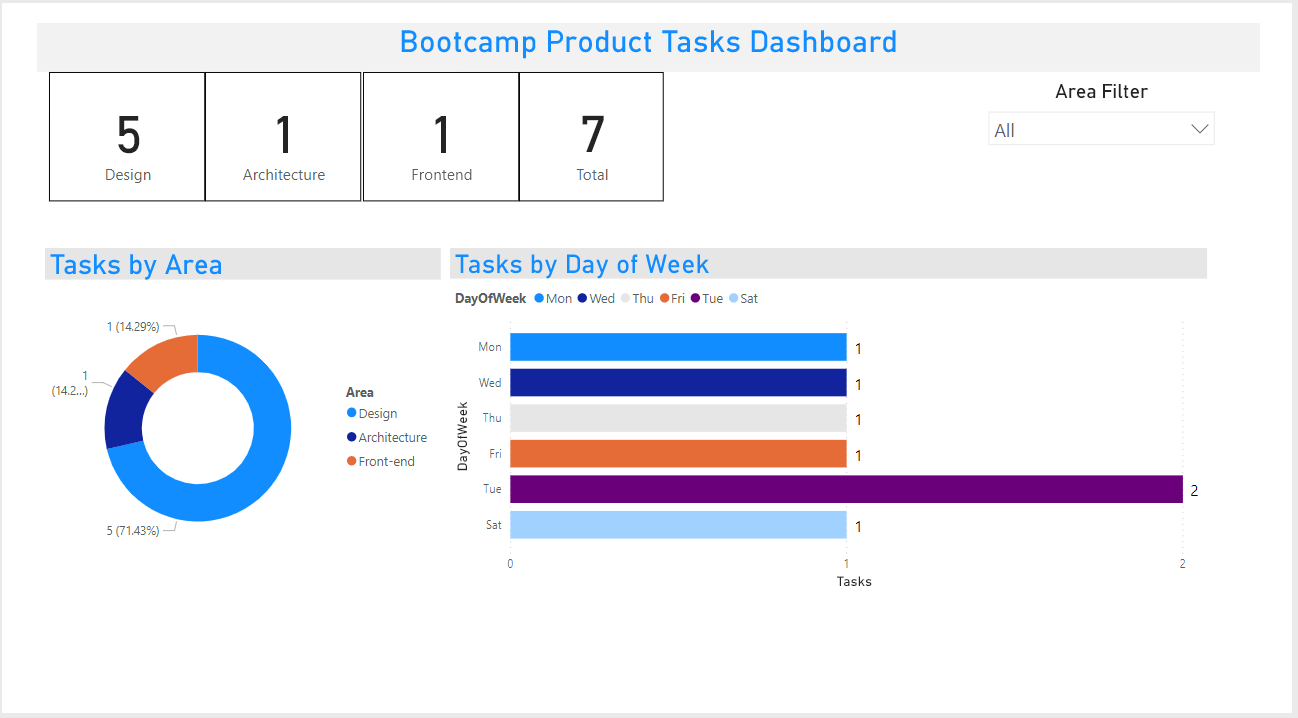

Layout of this report page (visuals, bound fields, positions):
{"tool":"powerbi","page":{"name":"Web","canvas":[1280,720],"ordinal":0},"visuals":[{"type":"donutChart","title":"Tasks by Area","fields":{"Category":["Test.Area"],"Y":["CountNonNull(Test.ID)"]},"box":[11.1,234.9,412.9,342.8],"z":0},{"type":"barChart","title":"Tasks by Day of Week","fields":{"Category":["Test.DayOfWeek"],"Y":["CountNonNull(Test.ID)"],"Series":["Test.DayOfWeek"]},"box":[434.2,234.4,790.3,360.6],"z":1000},{"type":"textbox","title":"Bootcamp Product Tasks Dashboard","box":[3.3,0,1276.7,51.2],"z":2000},{"type":"card","fields":{"Values":["Test.Design Tasks"]},"box":[15.6,51.2,162.5,134.7],"z":3000},{"type":"card","fields":{"Values":["Test.Architecture"]},"box":[178.1,51.2,162.5,134.7],"z":4000},{"type":"slicer","title":"Area Filter","fields":{"Values":["Test.Area"]},"box":[986.2,59,256,126.9],"z":5000},{"type":"card","fields":{"Values":["Test.Frontend"]},"box":[342.8,51.2,162.5,134.7],"z":6000},{"type":"card","fields":{"Values":["CountNonNull(Test.ID)"]},"box":[505.7,51.3,150.7,135.1],"z":7000}]}

Visuals, with their boxes in screenshot pixels (x1, y1, x2, y2), scaled from the page's 1280x720 canvas onto the 1298x718 screenshot:
"Tasks by Area" donutChart: detection(11, 234, 430, 576)
"Tasks by Day of Week" barChart: detection(440, 234, 1242, 593)
"Bootcamp Product Tasks Dashboard" textbox: detection(3, 0, 1297, 51)
card - Test.Design Tasks: detection(16, 51, 181, 185)
card - Test.Architecture: detection(181, 51, 345, 185)
"Area Filter" slicer: detection(1000, 59, 1260, 185)
card - Test.Frontend: detection(348, 51, 512, 185)
card - CountNonNull(Test.ID): detection(513, 51, 666, 186)
